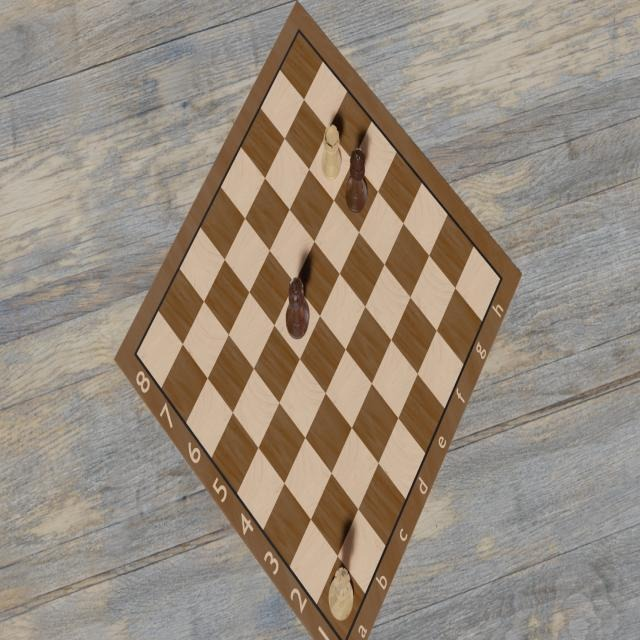black-king: (284, 268, 312, 340)
black-queen: (345, 143, 370, 216)
white-king: (327, 563, 355, 627)
white-rook: (320, 120, 342, 183)
